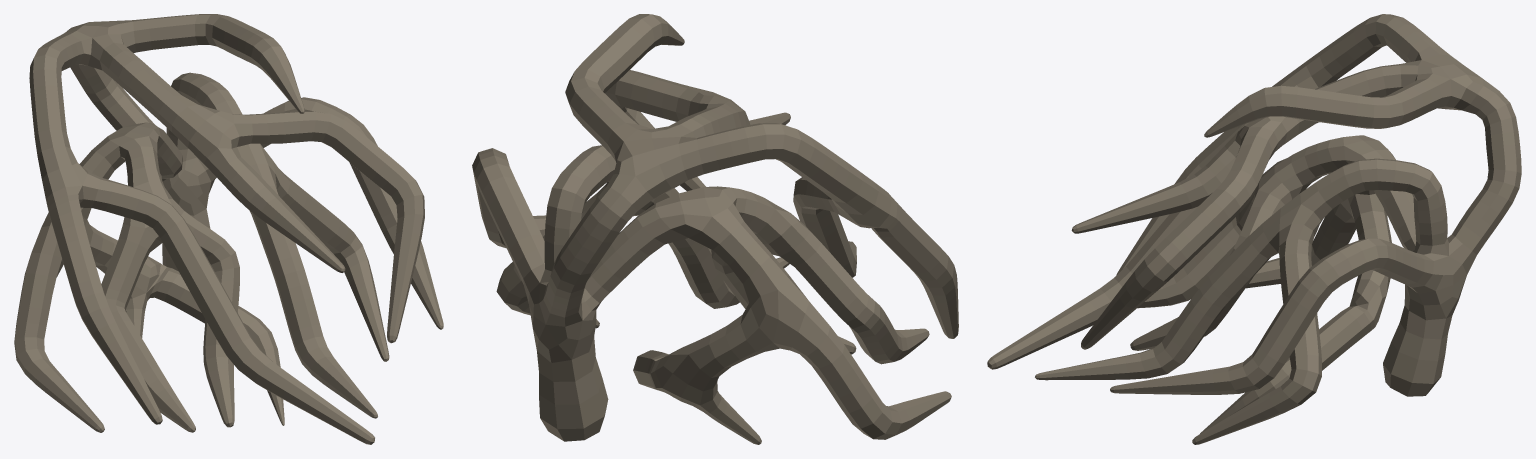
File: SabinaSinHojas.fbx
3 views of the same model, side by side, from view 1: azimuth 30°, elevation 25°; view 2: azimuth 150°, elevation 25°; view 3: azimuth 270°, elevation 25° (orthographic). The views are drawn at different scales.
Parts seen in each view (by area): view 1: Plane; view 2: Plane; view 3: Plane.
Part boxes in pixels (bbox=[...]): Plane: bbox=[14, 14, 443, 444]; Plane: bbox=[472, 14, 958, 444]; Plane: bbox=[987, 14, 1521, 444].
Bounding box in the file's own units: 266 × 243 × 327.
